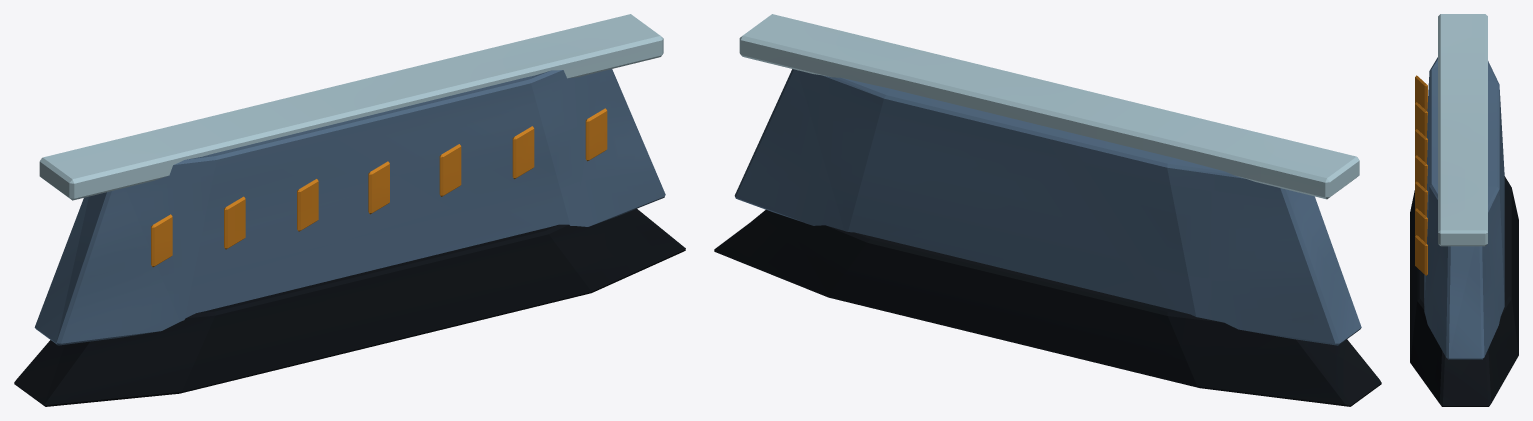
Rendered from Barrier_Module.fbx.
3 renders of one model, left to right at view 1: azimuth 30°, elevation 25°; view 2: azimuth 150°, elevation 25°; view 3: azimuth 270°, elevation 25°, orthographic. The views are drawn at different scales.
Visible parts, largest first — view 1: Barrier_Module; view 2: Barrier_Module; view 3: Barrier_Module.
Part boxes in pixels (x1,y1,x2,y2): Barrier_Module: (14,14,685,406); Barrier_Module: (714,14,1381,406); Barrier_Module: (1410,14,1518,406).
Bounding box in the file's own units: 3.78 × 1.25 × 0.736.
